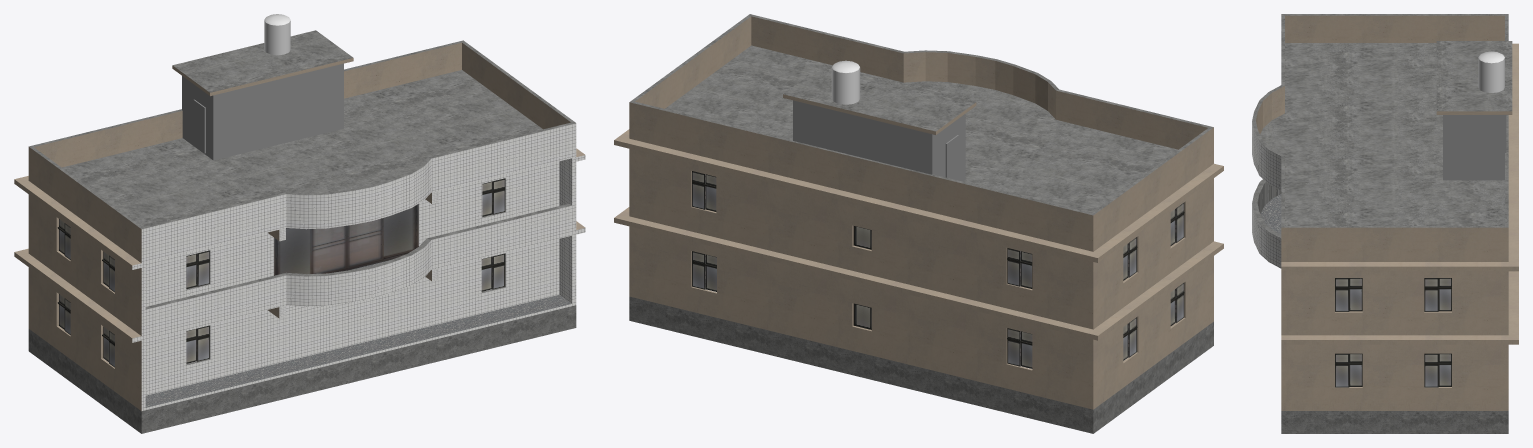
Rendered from test_house.FBX.
The picture shows the model from 3 angles, left to right: view 1: azimuth 30°, elevation 25°; view 2: azimuth 150°, elevation 25°; view 3: azimuth 270°, elevation 25°; orthographic projection. The views are drawn at different scales.
Visible parts, largest first — view 1: Box001, Box018, Box019, Cylinder001, Box027; view 2: Box001, Box018, Box019, Cylinder001; view 3: Box001, Box019, Box018, Cylinder001.
Boxes of the visible parts, left/top/right/bottom form: Box001: left=14, top=40, right=585, bottom=433; Box018: left=182, top=63, right=343, bottom=160; Box019: left=172, top=30, right=353, bottom=96; Cylinder001: left=264, top=14, right=290, bottom=55; Box027: left=193, top=99, right=205, bottom=153; Box001: left=614, top=14, right=1223, bottom=433; Box018: left=793, top=100, right=965, bottom=181; Box019: left=783, top=65, right=976, bottom=134; Cylinder001: left=831, top=60, right=860, bottom=104; Box001: left=1252, top=14, right=1518, bottom=433; Box019: left=1436, top=41, right=1512, bottom=114; Box018: left=1443, top=115, right=1506, bottom=180; Cylinder001: left=1478, top=51, right=1504, bottom=92.
Size of what is drawn, in the model's own units: 20.85 by 10.55 by 12.35.
6 materials, 5 textured.
